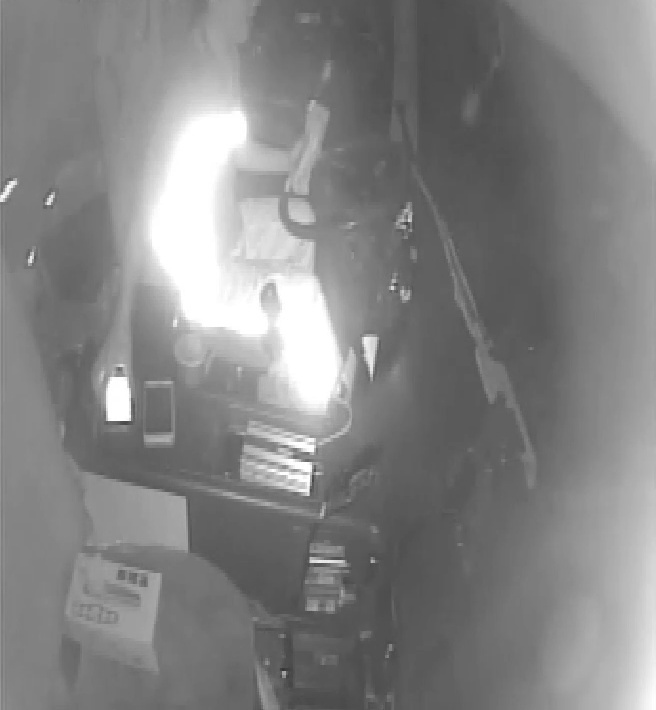cellphone: (95, 366, 135, 429)
